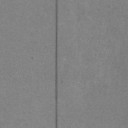surface scratch: (55, 0, 58, 128)
